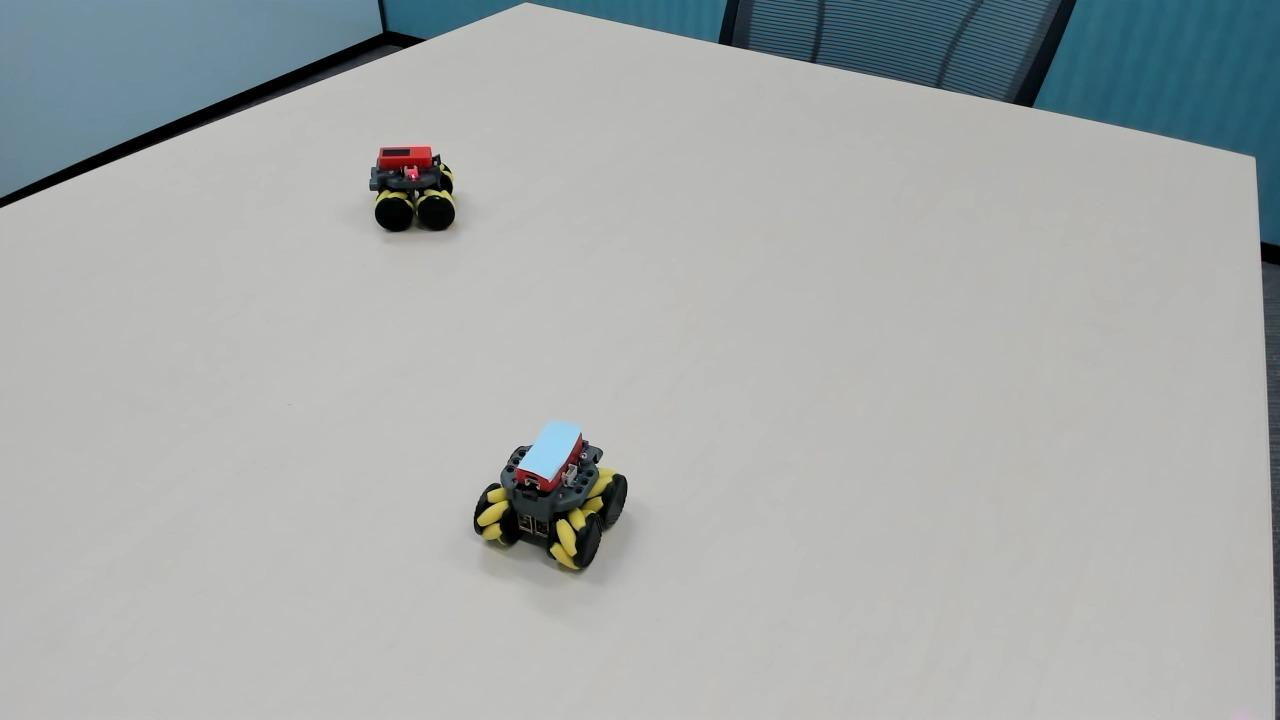B-Robot: (466, 412, 639, 598)
R-Robot: (361, 134, 465, 245)
